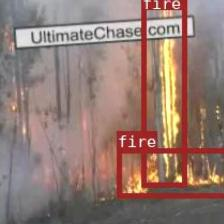fire: (140, 0, 186, 187), (116, 147, 224, 197)
